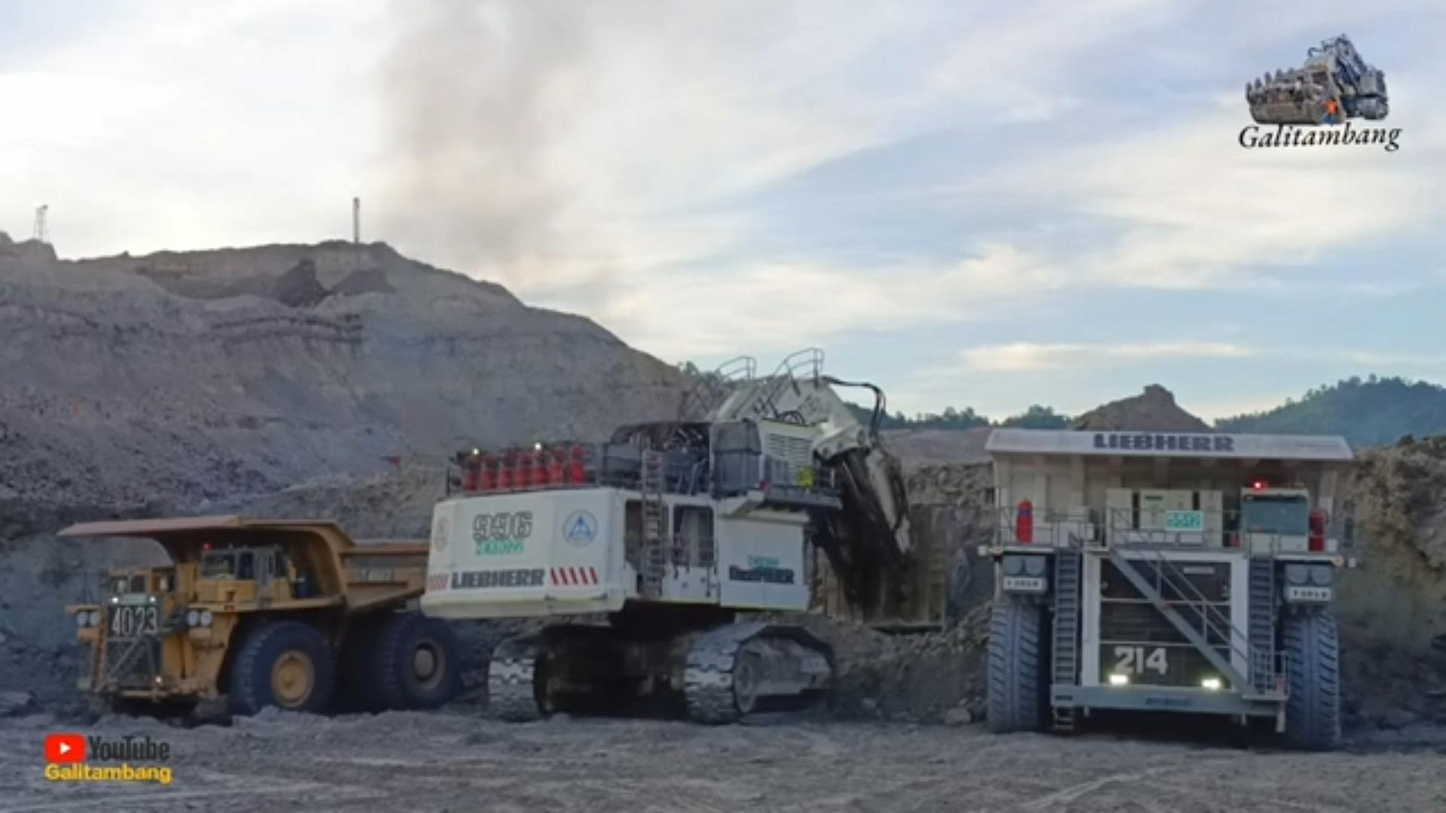Excavator: (420, 351, 929, 723)
HD-Truck: (978, 422, 1362, 751), (59, 515, 459, 715)
